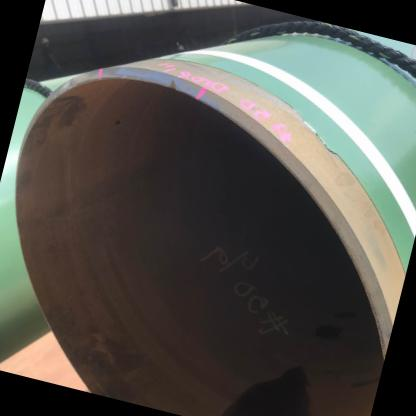Bevel: (157, 72, 184, 98)
